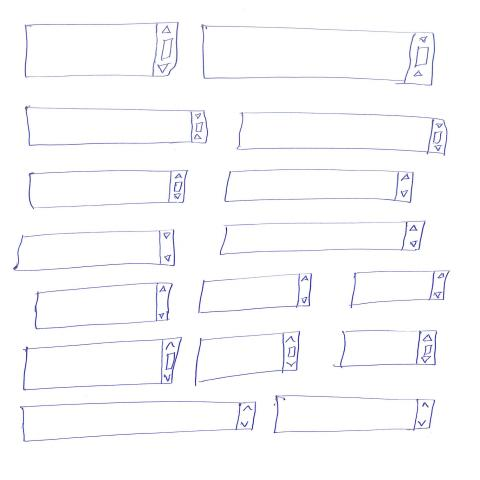Textarea: (201, 26, 438, 88), (20, 401, 258, 443), (237, 113, 449, 156), (24, 23, 180, 80), (22, 338, 183, 393), (219, 220, 427, 256), (26, 107, 210, 147), (12, 229, 177, 273), (35, 282, 174, 331), (224, 169, 416, 204), (29, 169, 190, 210), (273, 395, 437, 435), (195, 331, 302, 385), (197, 273, 313, 315), (339, 330, 439, 370), (350, 270, 451, 308)
